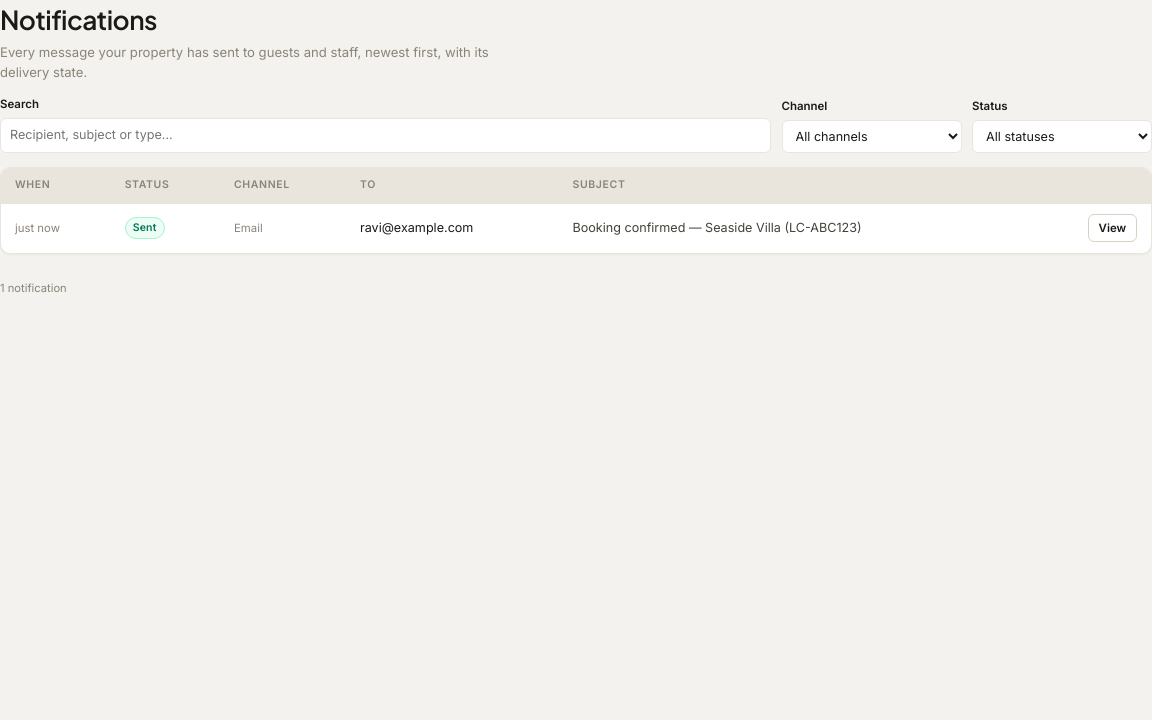
it: NotificationsPage › opens a read-only detail dialog showing the full message body
Click the button "View" at (1112, 228), box [1088,214,1137,242]
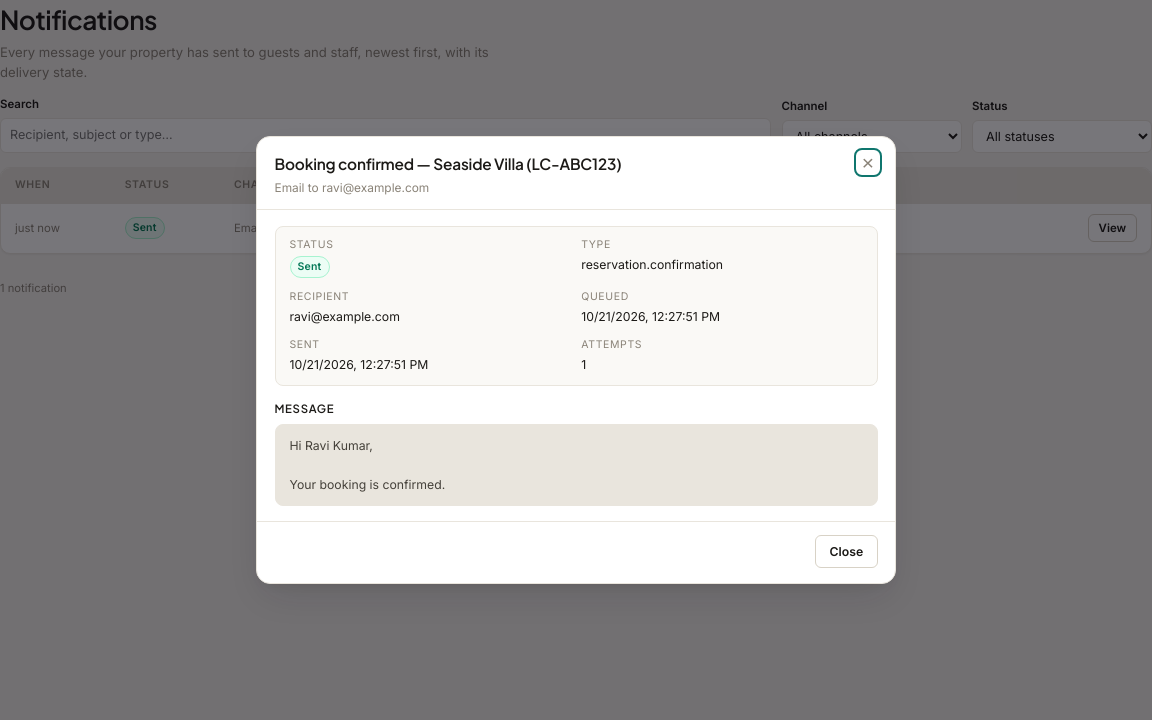
Expected: the text "Hi Ravi Kumar, Your booking is confirmed." is shown, [274,424,878,506]
